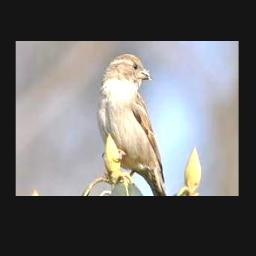Sparrow: (97, 53, 168, 195)
